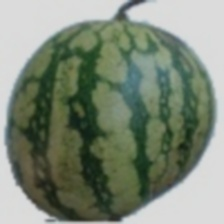watermelon: (30, 40, 217, 192)
